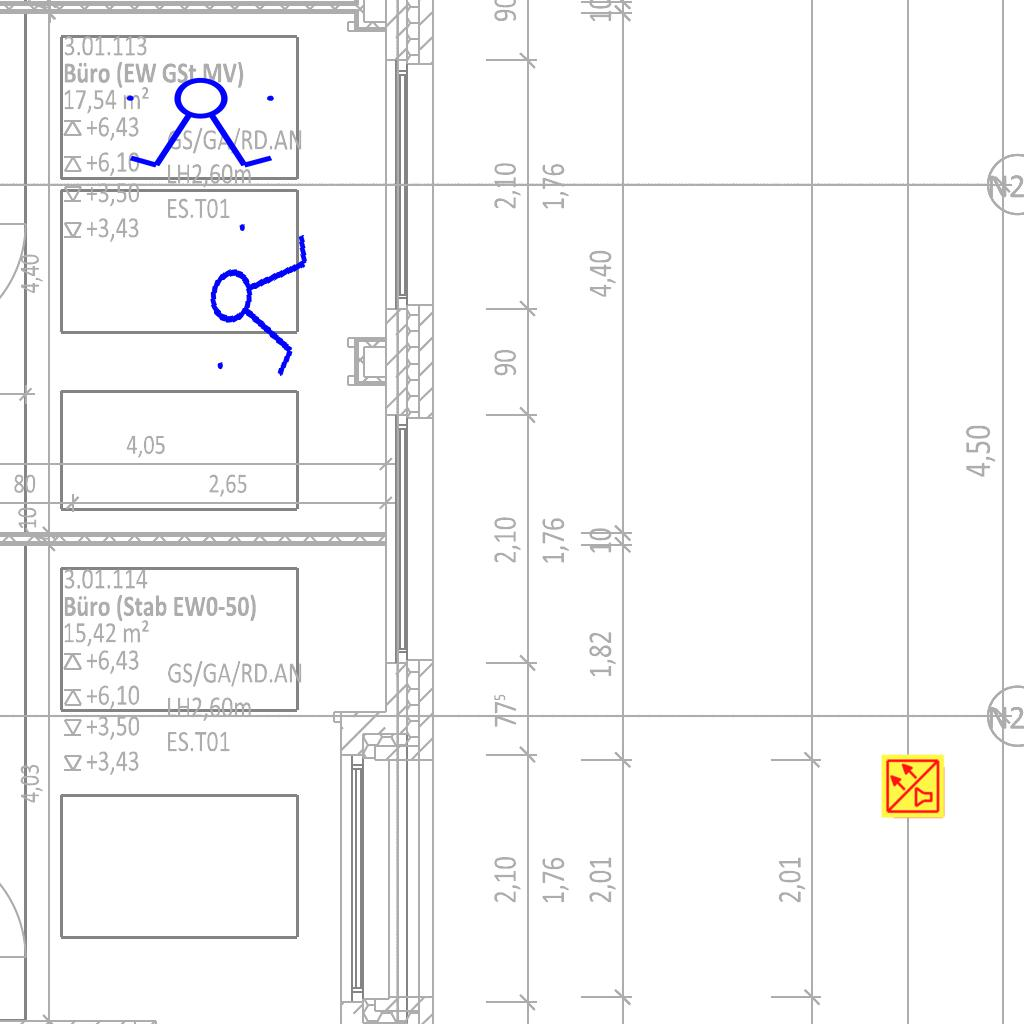OKW_Multisensormelder_(Kombination_optischer_Rauch-Kahlenmonoxid_Waerme-Melder): (880, 753, 946, 819)
Serienschalter: (196, 208, 318, 390), (118, 76, 286, 172)
